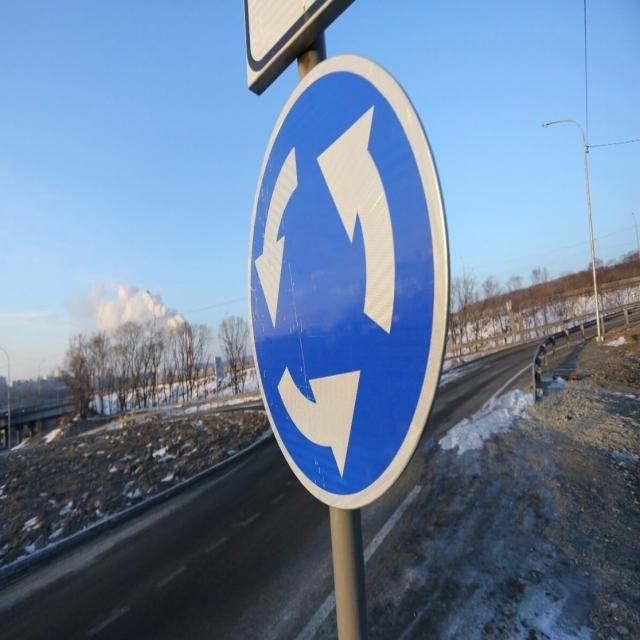roundabout: (247, 54, 455, 512)
